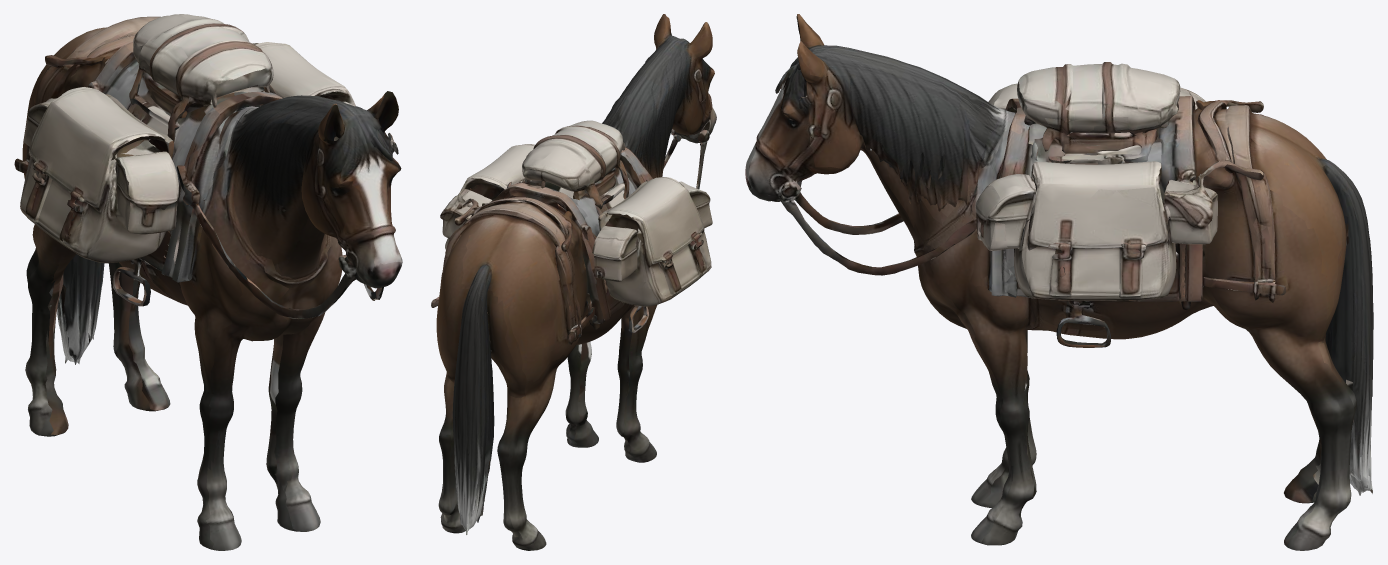
3 renders of one model, left to right at view 1: azimuth 30°, elevation 25°; view 2: azimuth 150°, elevation 25°; view 3: azimuth 270°, elevation 25°, orthographic. The views are drawn at different scales.
Visible parts, largest first — view 1: Horse; view 2: Horse; view 3: Horse.
Boxes of the visible parts, box(x1,y1,x2,y2) form: Horse: box(14, 14, 402, 550); Horse: box(431, 14, 716, 550); Horse: box(745, 14, 1373, 550).
Size of the model in its own units: 1.26 by 1.99 by 2.3.
1 material, 1 textured.
